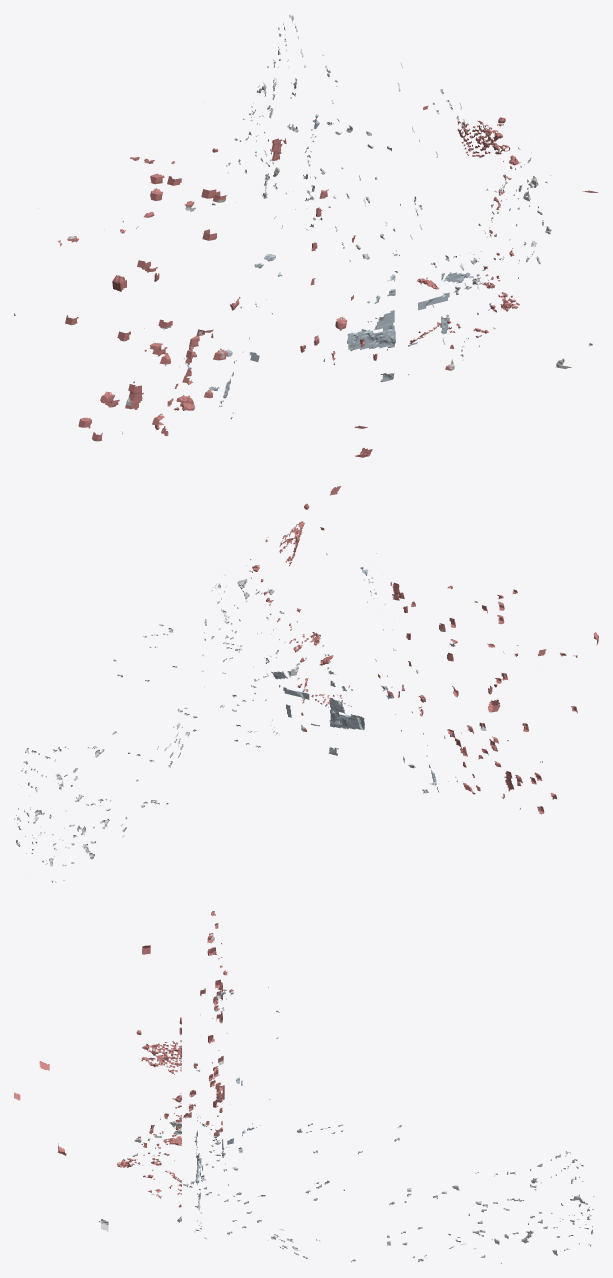
The model's file is B173-날개__nojudge_ALS_s0__removed.glb.
The picture shows the model from 3 angles, top to bottom: view 1: azimuth 30°, elevation 25°; view 2: azimuth 150°, elevation 25°; view 3: azimuth 270°, elevation 25°; orthographic projection. The views are drawn at different scales.
Size of the model in its own units: 16.03 by 9 by 22.9.
